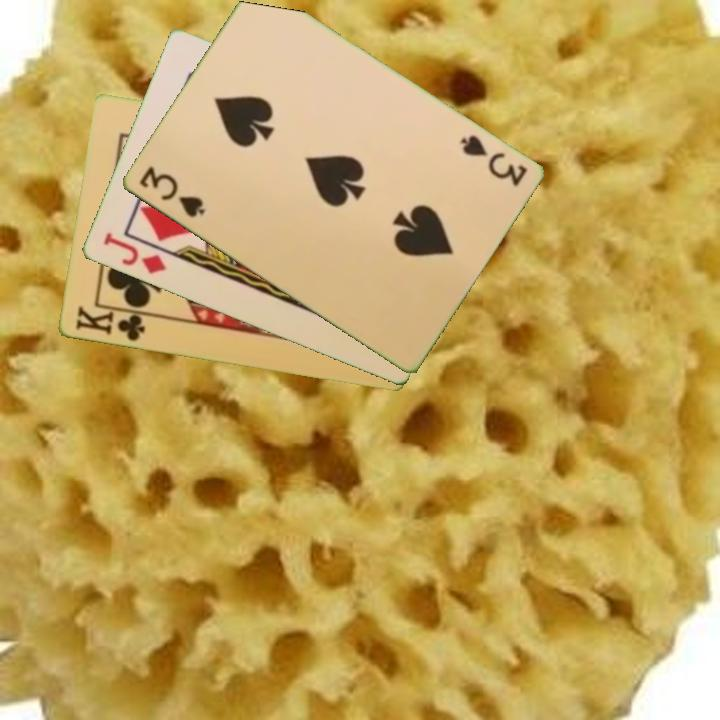3s: (456, 131, 530, 190), (135, 162, 208, 221)
Jd: (99, 229, 169, 278)
Kc: (71, 303, 154, 345)
